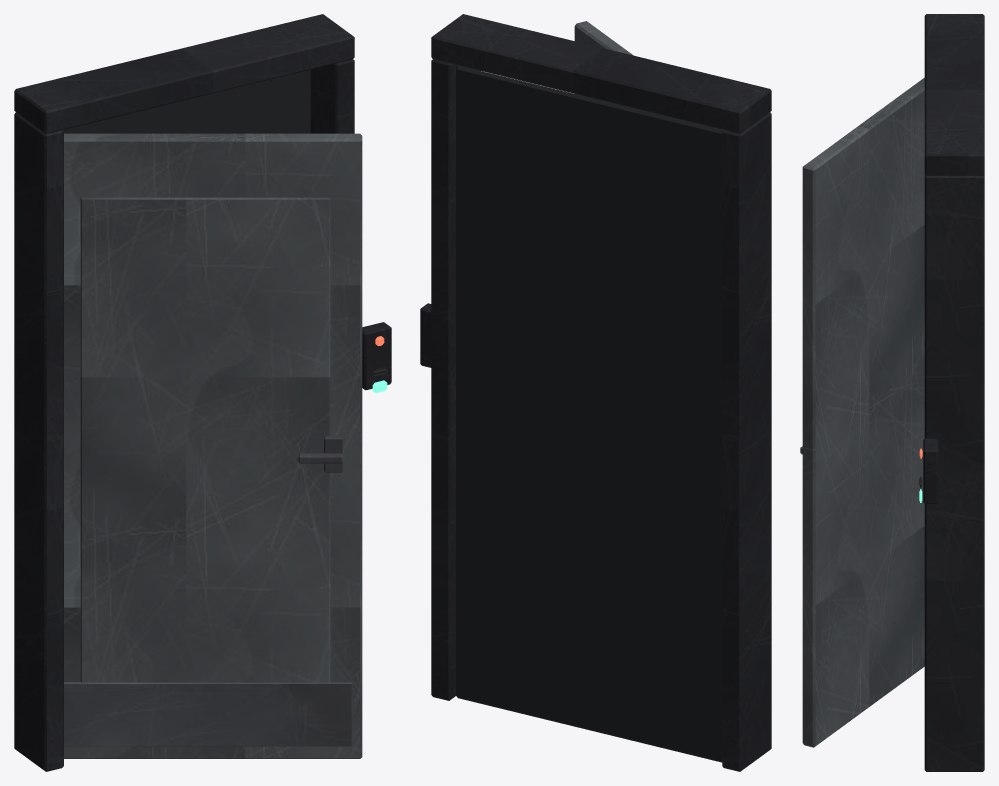
File: door_keycard.glb
3 renders of one model, left to right at view 1: azimuth 30°, elevation 25°; view 2: azimuth 150°, elevation 25°; view 3: azimuth 270°, elevation 25°, orthographic. The views are drawn at different scales.
Visible parts, largest first — view 1: door, frame; view 2: frame, door; view 3: door, frame.
Boxes of the visible parts, box(x1,y1,x2,y2) form: door: box(64, 133, 362, 758); frame: box(14, 14, 391, 771); frame: box(420, 14, 771, 771); door: box(574, 21, 723, 130); door: box(800, 77, 924, 747); frame: box(919, 14, 984, 771).
Bounding box in the file's own units: 1.25 × 2.28 × 0.616.
Materials: 6 (4 with a texture image).
